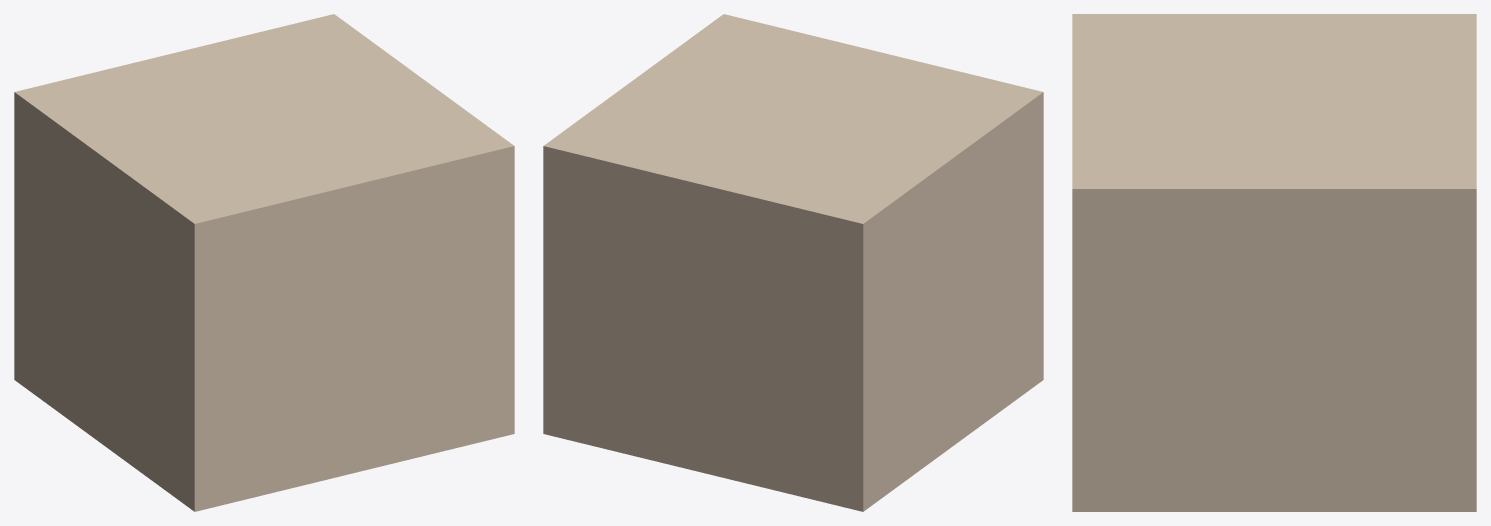
Rendered from atelier-lounge-chair.glb.
3 renders of one model, left to right at view 1: azimuth 30°, elevation 25°; view 2: azimuth 150°, elevation 25°; view 3: azimuth 270°, elevation 25°, orthographic. The views are drawn at different scales.
Visible parts, largest first — view 1: atelier-lounge-chair-placeholder; view 2: atelier-lounge-chair-placeholder; view 3: atelier-lounge-chair-placeholder.
Part boxes in pixels (x1,y1,x2,y2): atelier-lounge-chair-placeholder: (14,14,514,511); atelier-lounge-chair-placeholder: (543,14,1043,511); atelier-lounge-chair-placeholder: (1072,14,1476,511).
Bounding box in the file's own units: 0.86 × 0.74 × 0.84.
